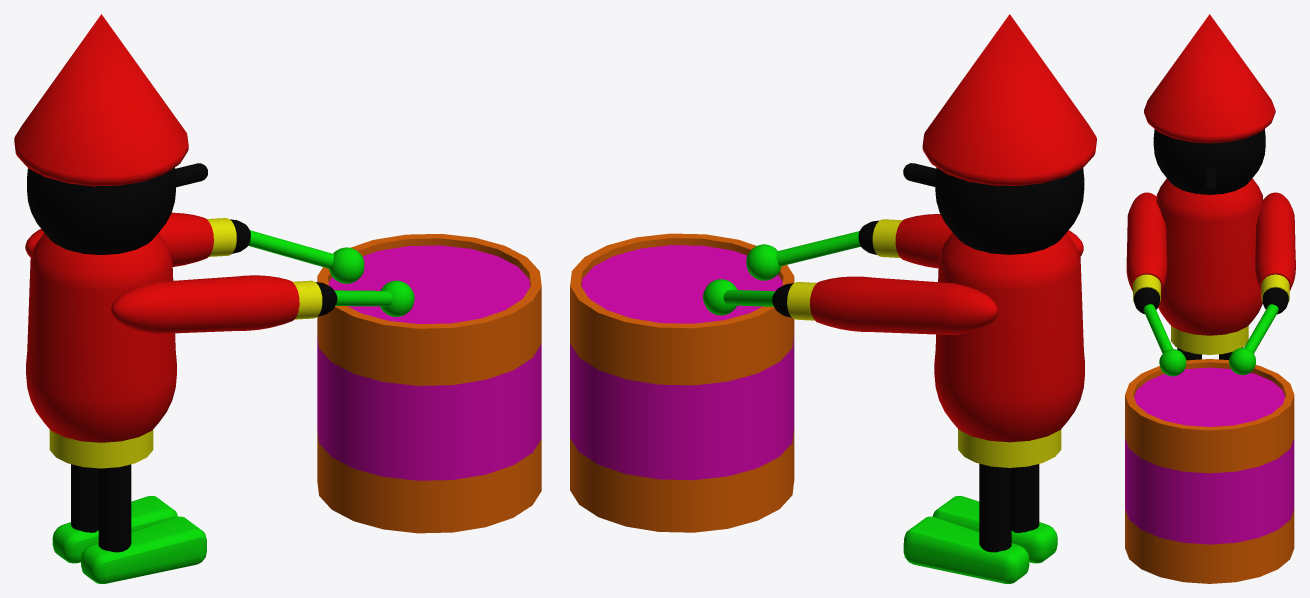
Rendered from SM_Pantin.fbx.
The picture shows the model from 3 angles, left to right: view 1: azimuth 30°, elevation 25°; view 2: azimuth 150°, elevation 25°; view 3: azimuth 270°, elevation 25°; orthographic projection. The views are drawn at different scales.
Visible parts, largest first — view 1: polySurface7; view 2: polySurface7; view 3: polySurface7.
Boxes of the visible parts, box(x1,y1,x2,y2) form: polySurface7: box(14, 14, 541, 583); polySurface7: box(570, 14, 1096, 583); polySurface7: box(1125, 14, 1295, 583).
Size of the model in its own units: 7.65 by 8.04 by 3.01.
